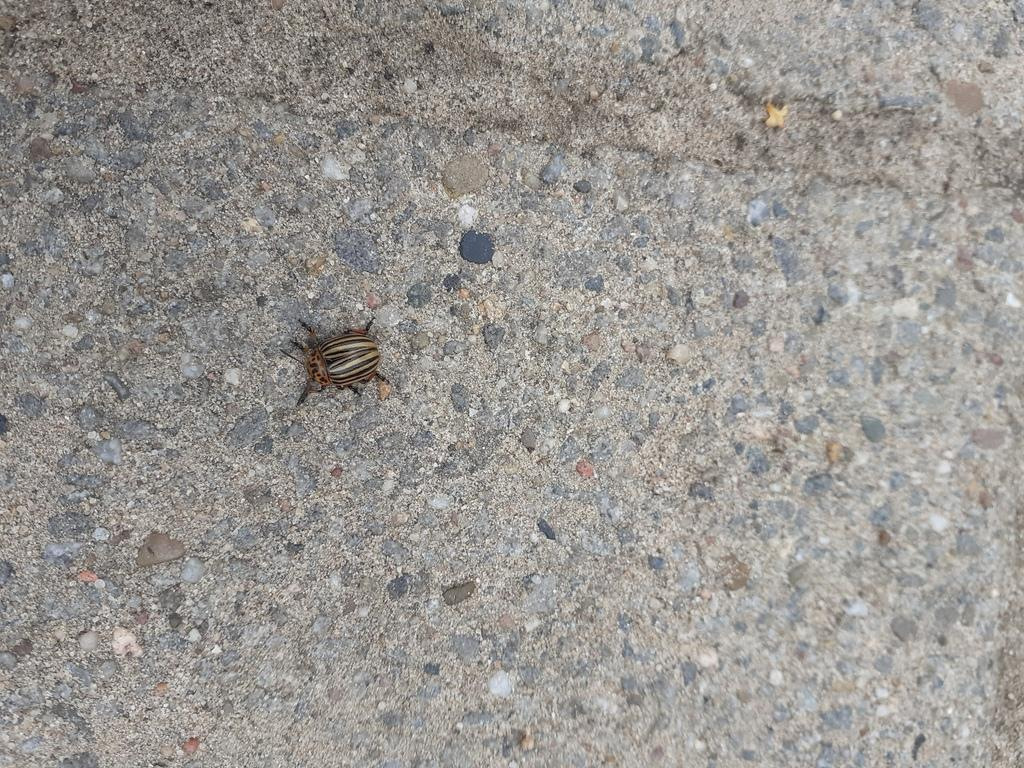potato_beetle: (260, 294, 409, 430)
